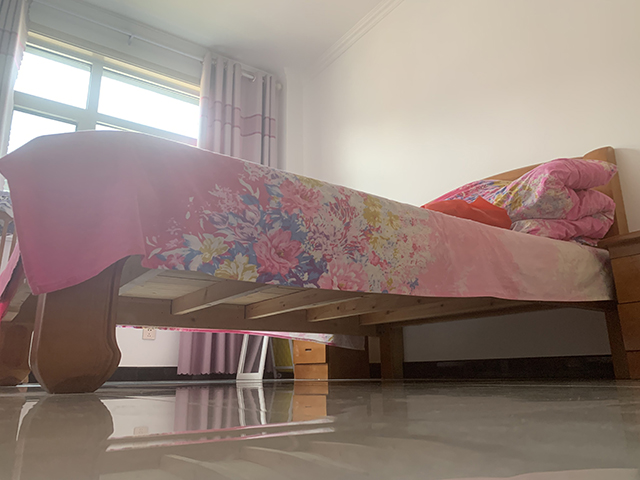bed: (1, 130, 630, 395)
cabinet: (291, 335, 370, 381)
curtain: (178, 55, 291, 378)
